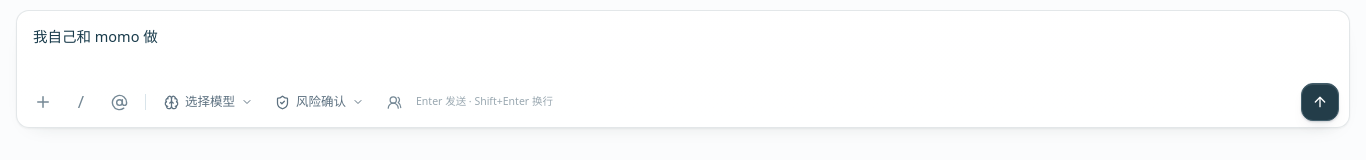
Test: InputArea › lets the user disable helpers for this turn and resets after acknowledgement
Click the button named "本轮自动召集助手" at point(394, 102), box x1=378 y1=86 x2=410 y2=118
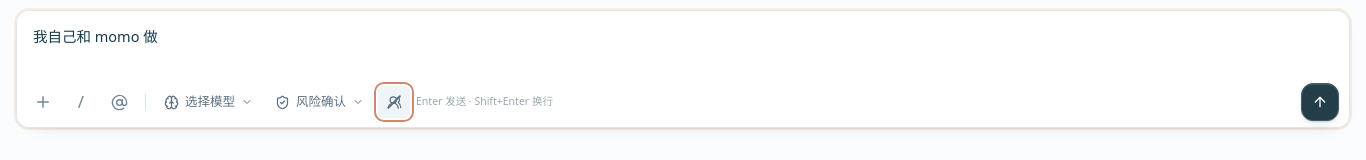
Now the element with test id "assistant-disabled-slash" is shown, box x1=387 y1=95 x2=401 y2=109
Click the button named "发送" at point(1320, 102), box x1=1301 y1=83 x2=1339 y2=121
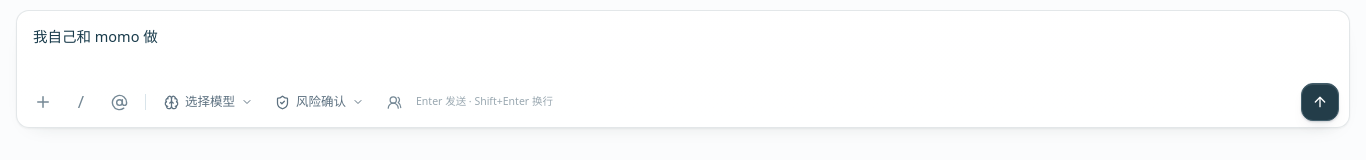
Now the button named "本轮自动召集助手" is shown, box x1=378 y1=86 x2=410 y2=118
